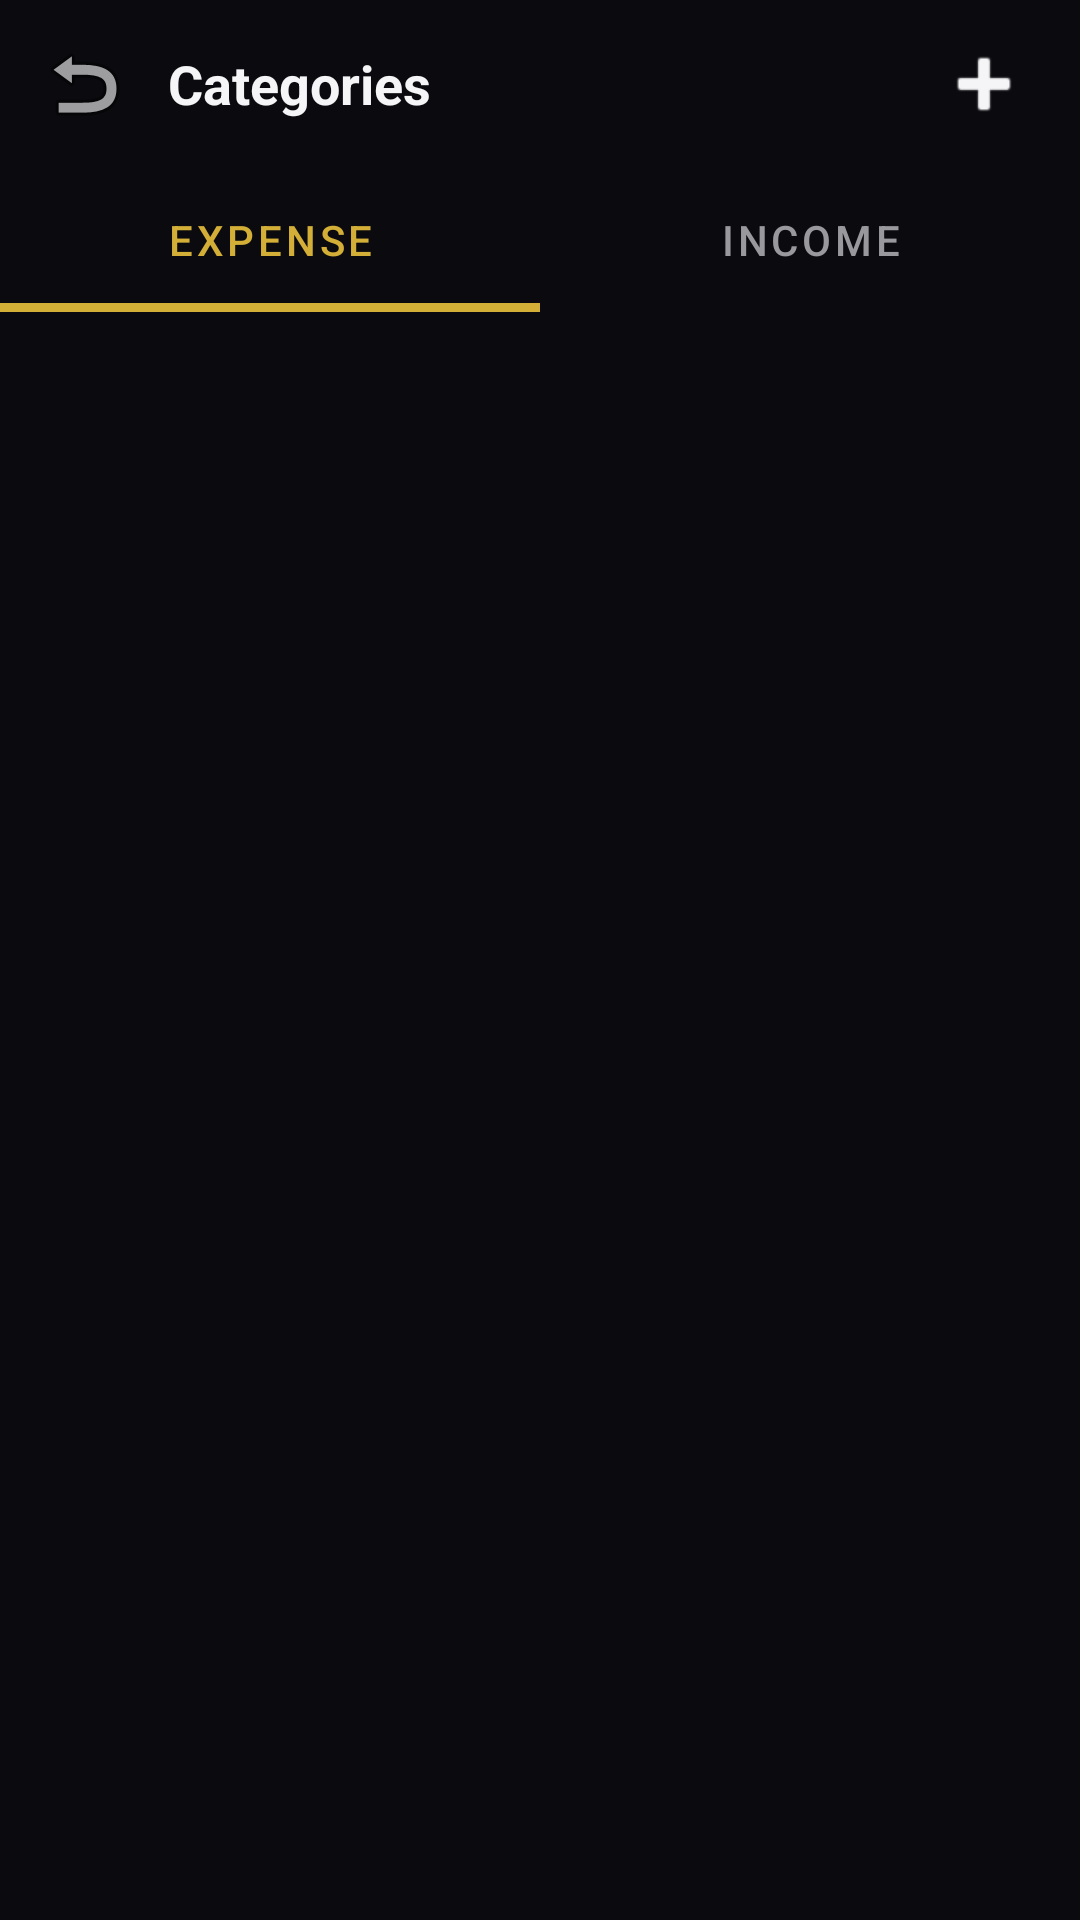

Where icons sit on this 1080×1920 app screen, as bbox(x1, y1, x2, y2):
add: bbox(957, 57, 1011, 111)
